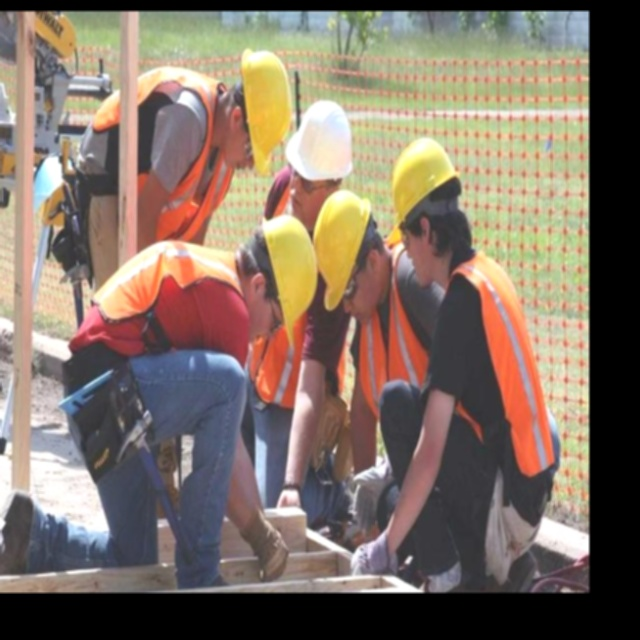Con_Casco: (388, 140, 465, 275), (249, 218, 316, 346), (314, 194, 379, 317), (285, 102, 351, 176)
Con_Chaleco: (436, 260, 555, 478), (100, 63, 230, 223), (92, 237, 245, 368)
